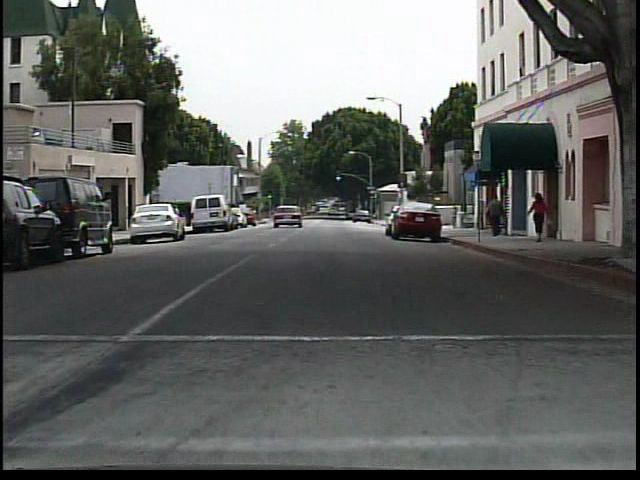person: (529, 186, 552, 244), (483, 193, 505, 240)
